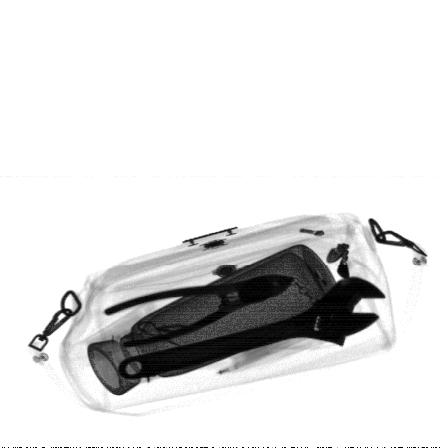Pliers: (102, 273, 298, 347)
Wrench: (116, 276, 387, 383)
